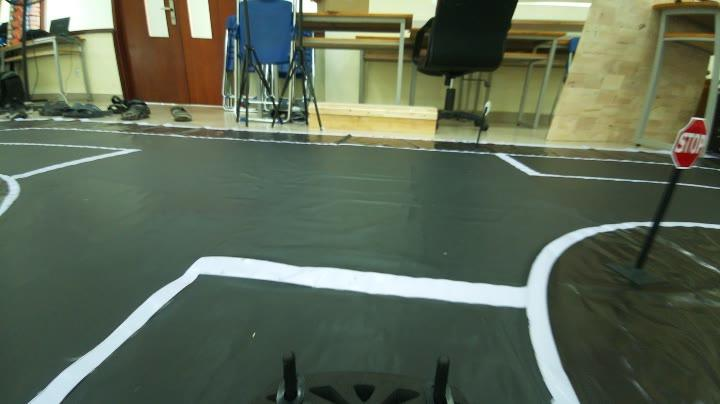stop: (666, 114, 706, 168)
